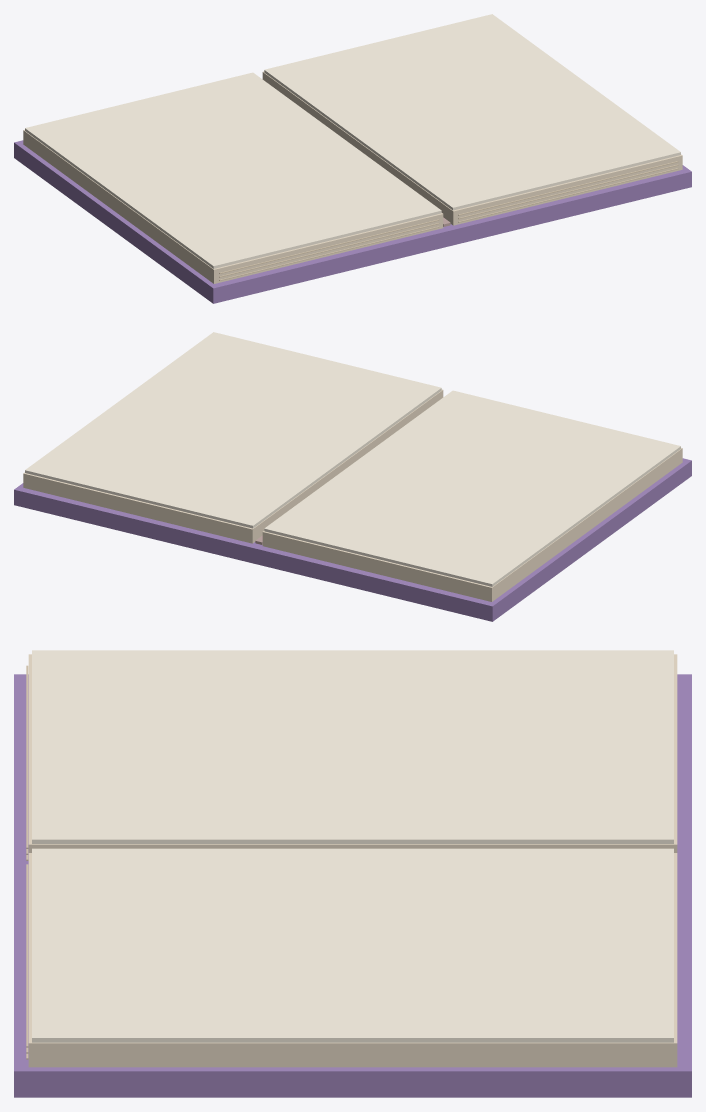
Rendered from book_pop_up.gltf.
3 views of the same model, one above another, from view 1: azimuth 30°, elevation 25°; view 2: azimuth 150°, elevation 25°; view 3: azimuth 270°, elevation 25° (orthographic). The views are drawn at different scales.
Parts seen in each view (by area): view 1: top_page (×2), cover (×2), pages (×2); view 2: top_page (×2), cover (×2), pages (×2); view 3: top_page (×2), cover (×2), pages (×2).
Boxes of the visible parts, x1,y1,x2,y2 form: top_page (×2): (25,14,680,268); cover (×2): (14,140,691,303); pages (×2): (23,71,682,283); top_page (×2): (25,332,680,586); cover (×2): (14,458,691,621); pages (×2): (23,389,682,601); top_page (×2): (32,650,673,1042); cover (×2): (14,674,691,1097); pages (×2): (28,654,677,1067).
Bounding box in the file's own units: 3.88 × 0.251 × 2.8.
